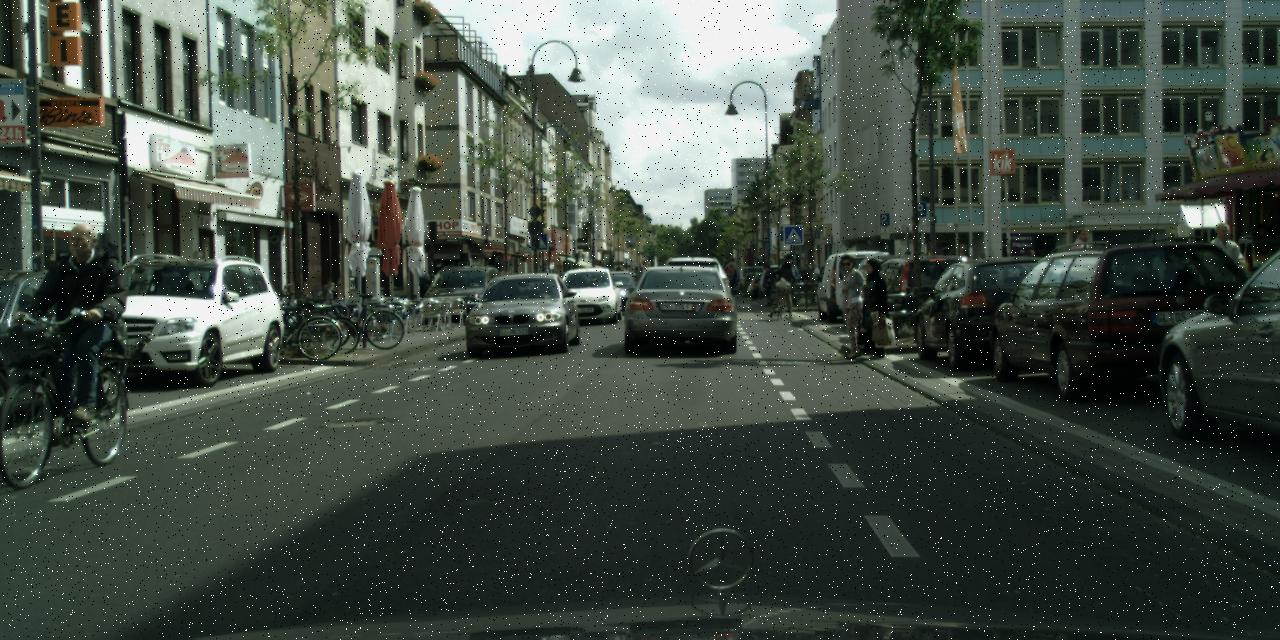ped: (36, 222, 120, 427), (1198, 222, 1253, 358), (830, 254, 872, 357), (853, 257, 894, 356), (1060, 228, 1099, 323), (773, 260, 795, 317), (970, 252, 989, 299), (1018, 250, 1036, 294), (760, 264, 776, 305), (799, 264, 812, 298), (725, 257, 738, 290), (810, 262, 821, 290), (728, 263, 733, 278)
